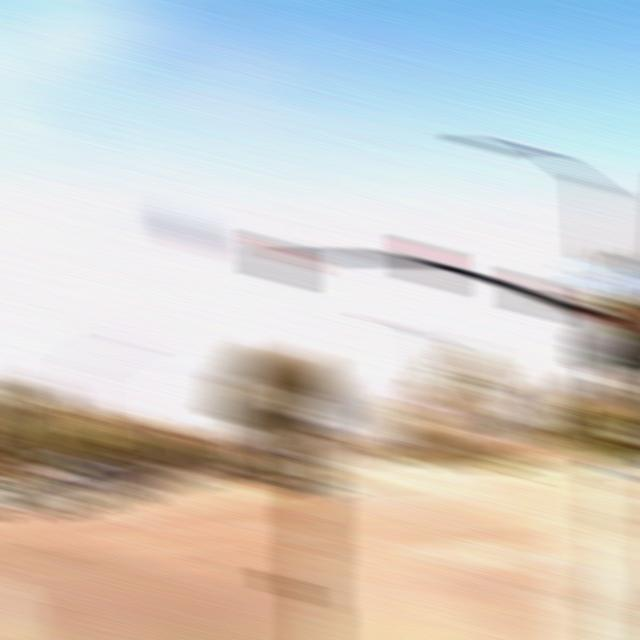speedLimit50: (278, 389, 314, 420)
